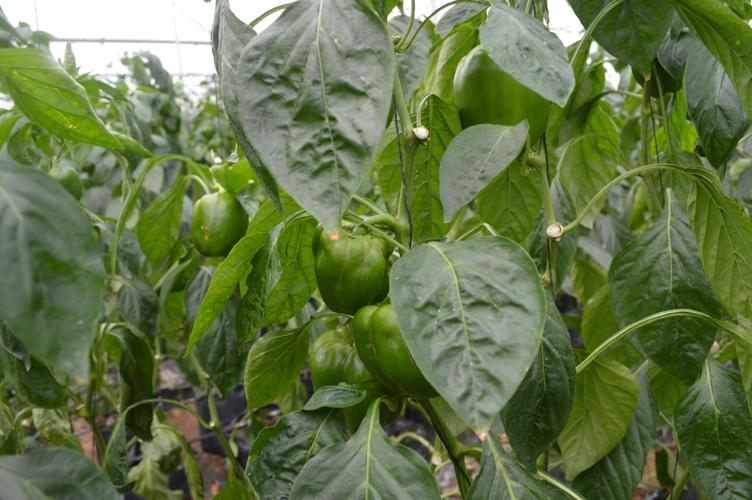BellPepper: (450, 47, 544, 141), (304, 331, 388, 425), (356, 304, 438, 398), (313, 233, 386, 307), (186, 194, 246, 254)
